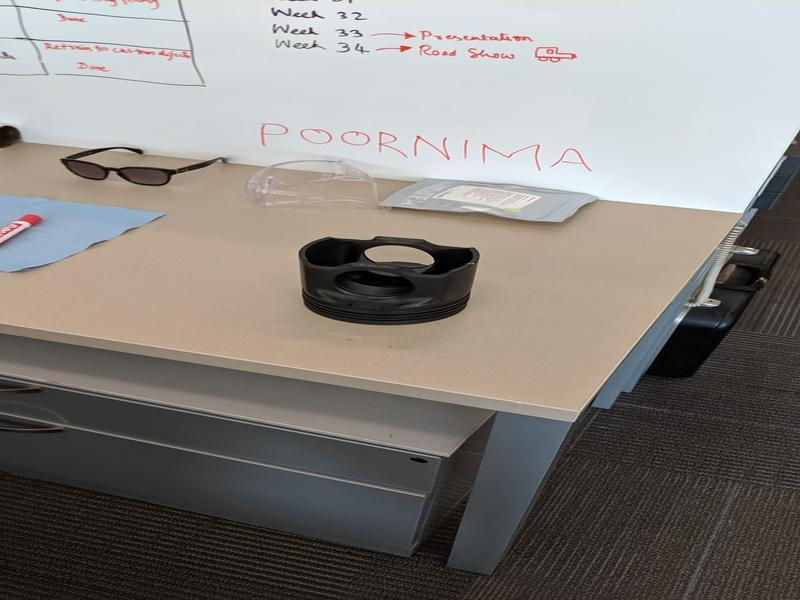piston: (295, 232, 482, 330)
